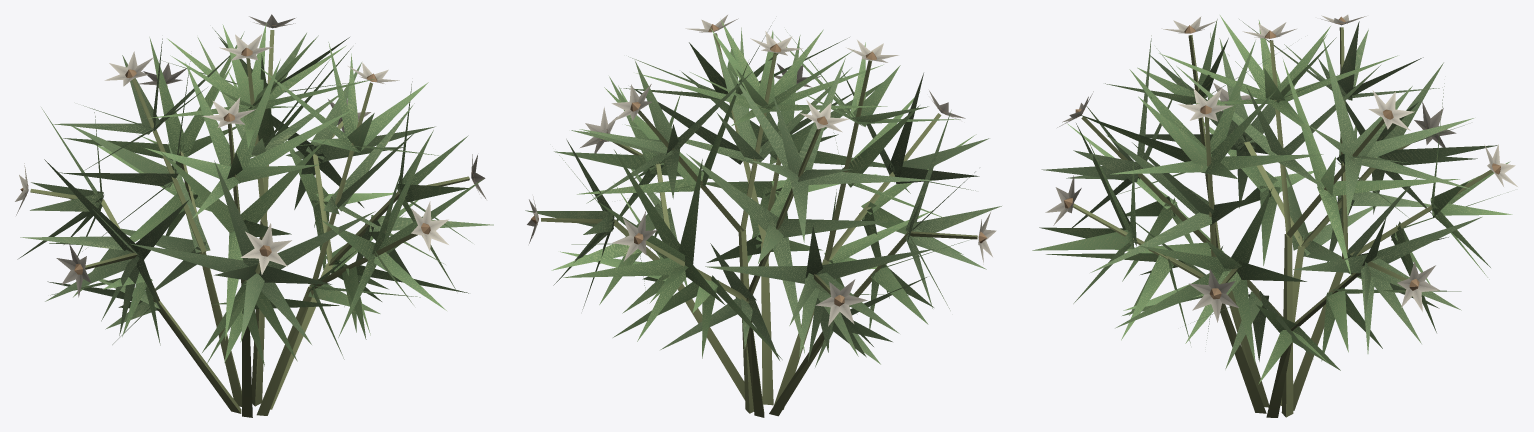
File: shrub.glb
The picture shows the model from 3 angles, left to right: view 1: azimuth 30°, elevation 25°; view 2: azimuth 150°, elevation 25°; view 3: azimuth 270°, elevation 25°; orthographic projection. The views are drawn at different scales.
Parts seen in each view (by area): view 1: shrub; view 2: shrub; view 3: shrub.
Boxes of the visible parts, box(x1,y1,x2,y2) form: shrub: box(15, 14, 493, 417); shrub: box(525, 15, 1001, 417); shrub: box(1032, 14, 1517, 417).
Size of the model in its own units: 2.15 by 1.86 by 2.17.
